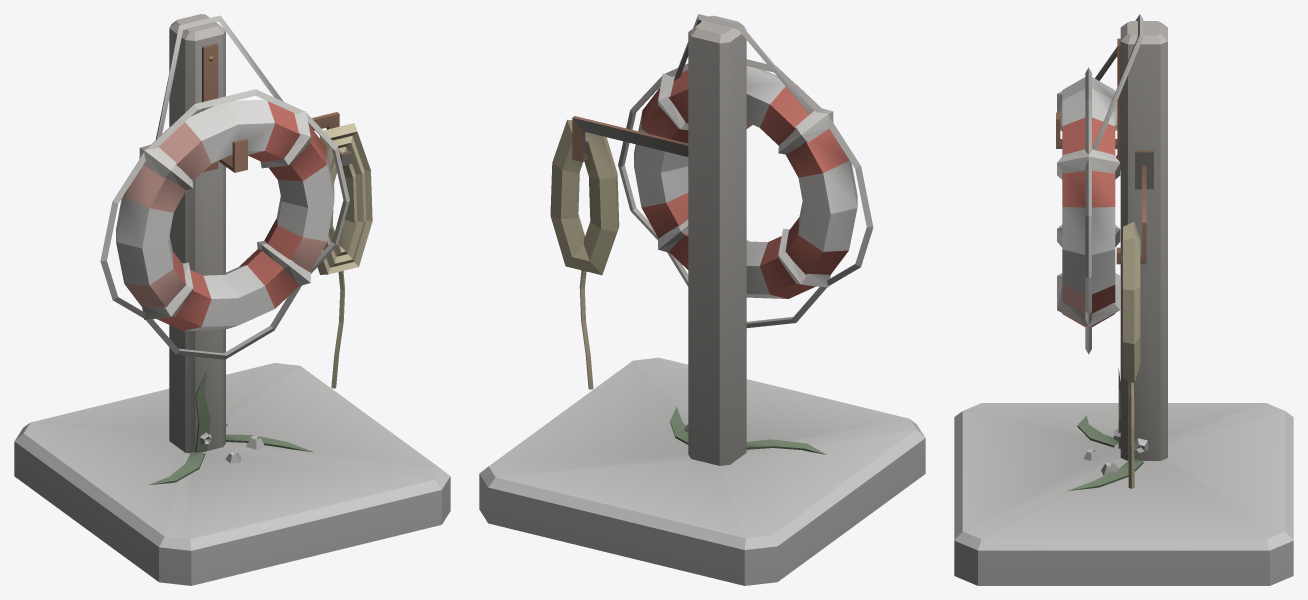
Rendered from buoy.glb.
3 views of the same model, side by side, from view 1: azimuth 30°, elevation 25°; view 2: azimuth 150°, elevation 25°; view 3: azimuth 270°, elevation 25° (orthographic). The views are drawn at different scales.
Parts seen in each view (by area): view 1: buoy; view 2: buoy; view 3: buoy.
Part boxes in pixels (x1,y1,x2,y2): buoy: [14, 14, 450, 585]; buoy: [479, 14, 925, 585]; buoy: [954, 14, 1293, 585].
Bounding box in the file's own units: 1.01 × 1.55 × 1.
